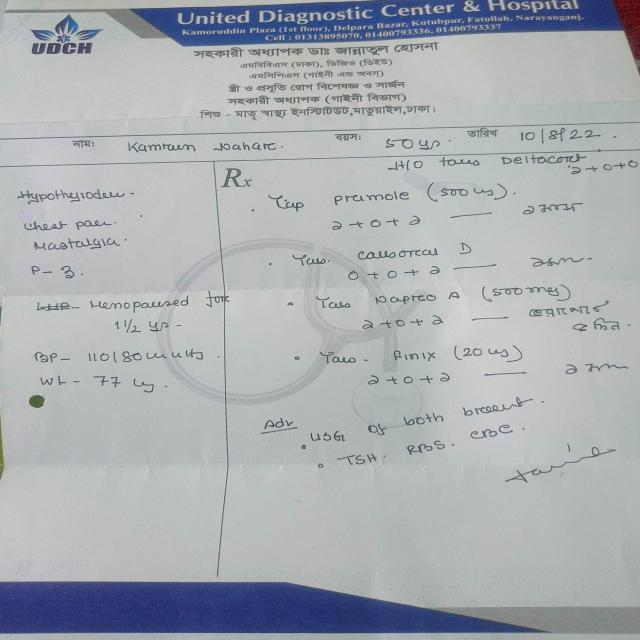Calboral D: (353, 241, 474, 262)
Finix: (385, 346, 442, 365)
Napro A: (372, 290, 466, 309)
Primrole: (328, 189, 415, 210)
